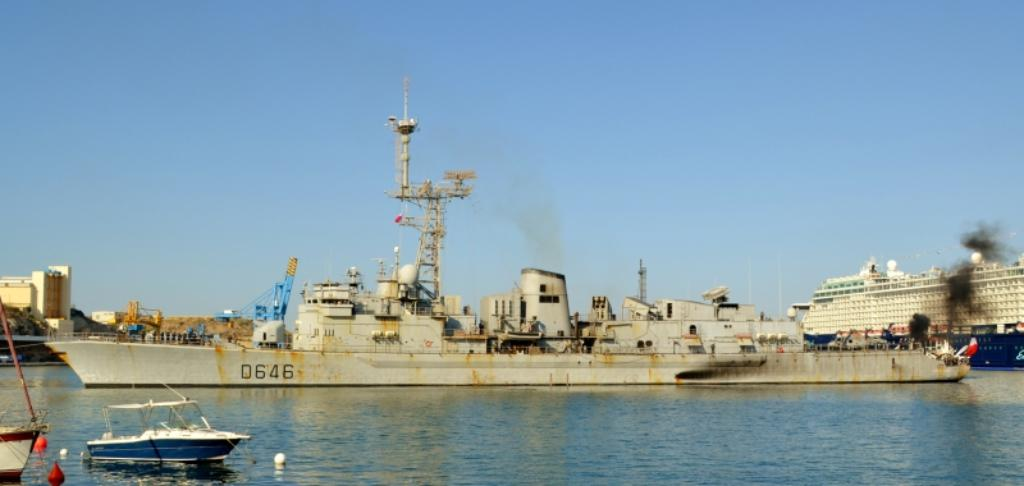Warship: (44, 72, 982, 388)
